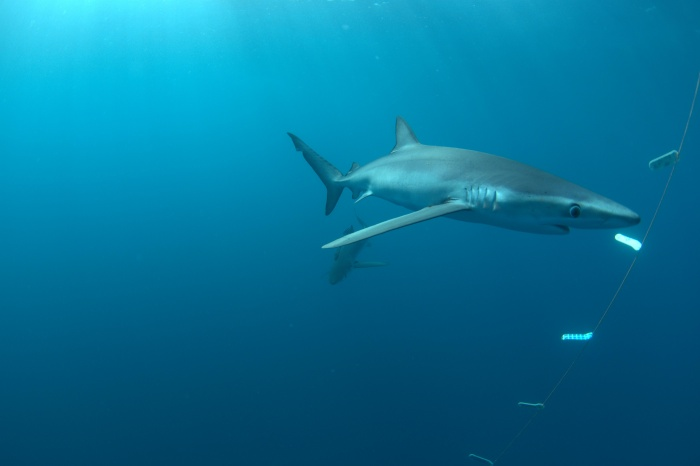Azul: (245, 80, 657, 269)
